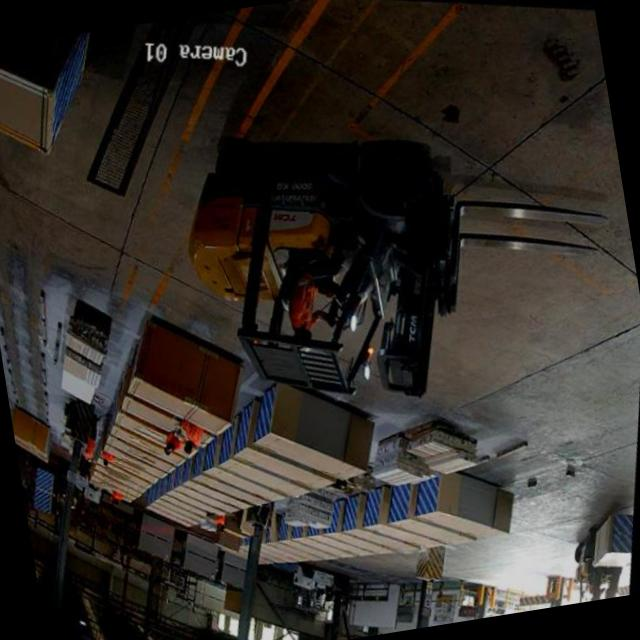driver: (256, 210, 366, 362)
forklift: (131, 84, 512, 466), (564, 528, 626, 604)
person: (176, 418, 206, 460), (78, 424, 105, 469), (160, 430, 187, 464)
